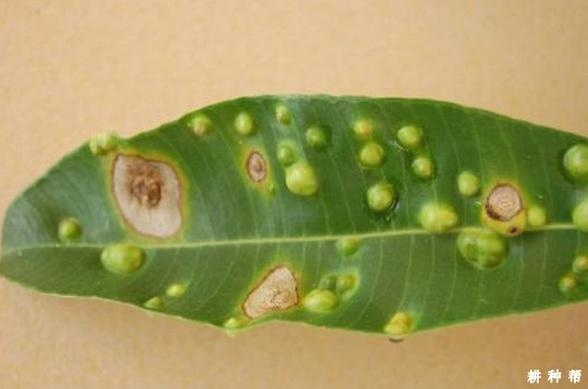Gall_Mite: (55, 123, 500, 250), (358, 79, 571, 271), (98, 212, 389, 332)
